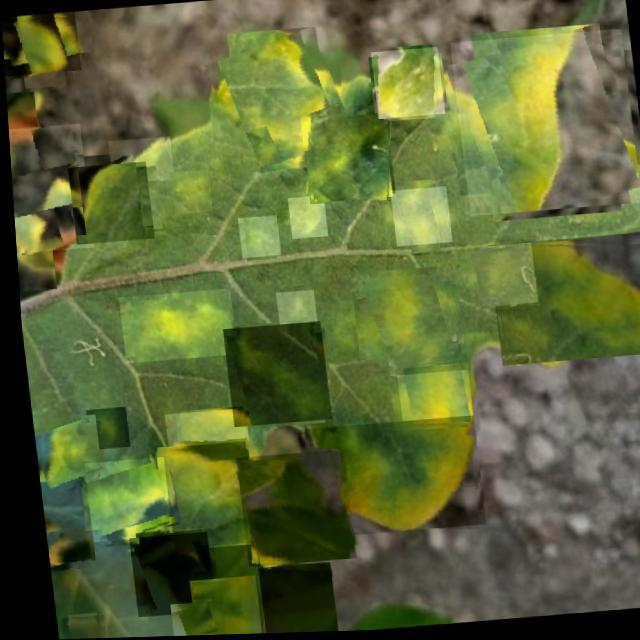leaf_spot: (448, 31, 639, 219), (292, 417, 479, 539), (484, 234, 640, 368), (208, 33, 348, 168), (229, 450, 349, 568), (145, 441, 256, 550), (218, 322, 326, 427), (7, 123, 90, 253), (353, 274, 455, 373), (298, 112, 394, 205), (114, 289, 233, 363), (159, 408, 248, 496), (77, 457, 165, 542), (121, 532, 207, 617), (65, 161, 151, 244), (391, 371, 470, 448), (250, 562, 330, 635), (26, 414, 97, 491), (370, 49, 444, 120), (1, 10, 80, 75), (181, 576, 254, 636), (467, 245, 534, 309), (387, 188, 449, 248), (106, 136, 172, 184), (37, 518, 84, 570), (162, 600, 218, 637), (80, 406, 124, 449), (168, 169, 210, 214), (235, 216, 278, 259), (285, 196, 325, 240), (272, 291, 314, 332), (52, 614, 99, 640)
